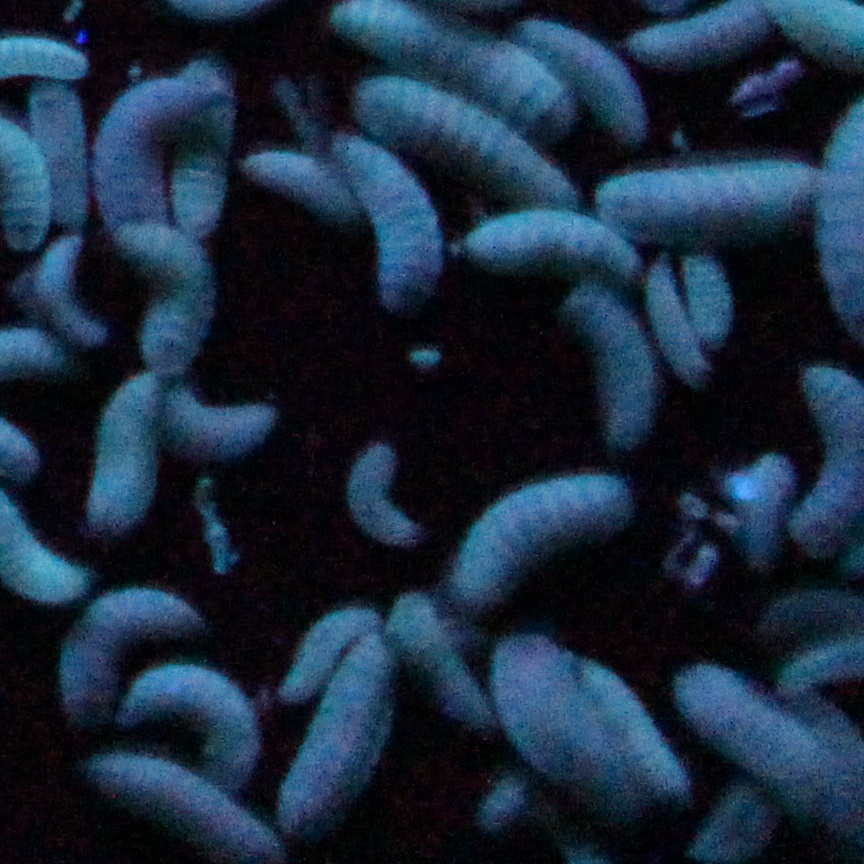larve: (491, 644, 637, 819), (361, 76, 568, 199), (693, 660, 848, 817), (461, 473, 634, 604), (284, 642, 393, 826), (83, 752, 280, 850), (561, 642, 681, 801), (99, 83, 222, 227), (334, 144, 439, 312), (372, 590, 492, 734), (601, 160, 814, 234), (61, 598, 191, 719), (516, 22, 647, 135), (129, 670, 258, 781), (122, 229, 211, 376), (576, 291, 650, 448), (96, 378, 166, 530), (165, 58, 225, 232), (452, 211, 643, 265), (150, 378, 273, 457), (284, 608, 383, 701), (30, 76, 81, 221), (648, 258, 706, 375), (35, 229, 94, 344), (247, 152, 353, 212), (352, 445, 414, 545), (686, 248, 732, 347)
